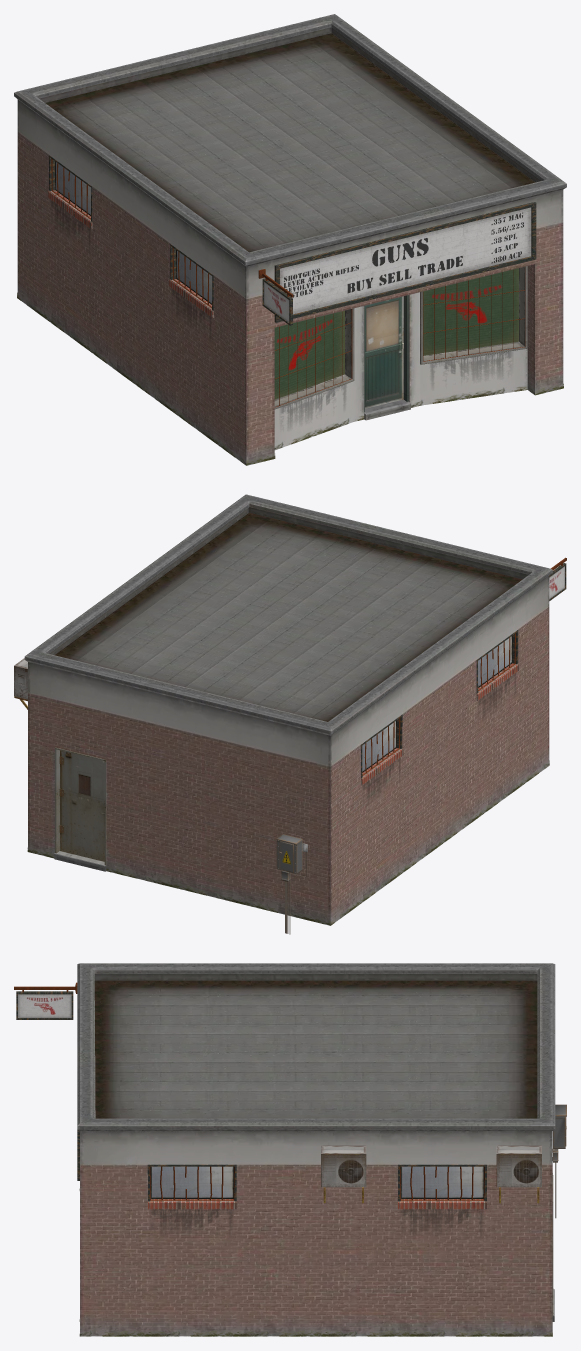
File: gun_shop_-_schneiders_gun_shop.glb
3 views of the same model, one above another, from view 1: azimuth 30°, elevation 25°; view 2: azimuth 150°, elevation 25°; view 3: azimuth 270°, elevation 25° (orthographic). The views are drawn at different scales.
Parts seen in each view (by area): view 1: gunStoreWall_gunStore_0, narrowWindow_windows_0, gunStoresign_gunStoresign_0, metalDoor_metalDoor_0, windowBars_rusty_0, decalMoss_mossy_0, decalLeaking_leakingMoss_0; view 2: gunStoreWall_gunStore_0, industrialDoor_industrialDoor_0, narrowWindow_windows_0, decalMoss_mossy_0, eletricBox-Low_eletricBox_0, windowBars_rusty_0, decalLeaking_leakingMoss_0, airconditioning.Low_air conditioning_0; view 3: gunStoreWall_gunStore_0, narrowWindow_windows_0, airconditioning.Low_air conditioning_0, decalMoss_mossy_0, gunStoresign_gunStoresign_0, decalLeaking_leakingMoss_0, windowBars_rusty_0, eletricBox-Low_eletricBox_0.
Boxes of the visible parts, x1,y1,x2,y2 form: gunStoreWall_gunStore_0: [14, 14, 566, 464]; narrowWindow_windows_0: [48, 155, 527, 409]; gunStoresign_gunStoresign_0: [262, 202, 536, 325]; metalDoor_metalDoor_0: [364, 295, 408, 412]; windowBars_rusty_0: [51, 159, 525, 407]; decalMoss_mossy_0: [17, 292, 563, 465]; decalLeaking_leakingMoss_0: [51, 201, 511, 424]; gunStoreWall_gunStore_0: [24, 494, 552, 924]; industrialDoor_industrialDoor_0: [55, 747, 106, 865]; narrowWindow_windows_0: [361, 630, 518, 785]; decalMoss_mossy_0: [27, 760, 549, 925]; eletricBox-Low_eletricBox_0: [276, 834, 307, 934]; windowBars_rusty_0: [362, 557, 566, 775]; decalLeaking_leakingMoss_0: [363, 673, 515, 798]; airconditioning.Low_air conditioning_0: [14, 658, 27, 709]; gunStoreWall_gunStore_0: [77, 963, 555, 1336]; narrowWindow_windows_0: [147, 1164, 486, 1209]; airconditioning.Low_air conditioning_0: [321, 1145, 541, 1203]; decalMoss_mossy_0: [79, 1173, 552, 1336]; gunStoresign_gunStoresign_0: [16, 991, 79, 1180]; decalLeaking_leakingMoss_0: [152, 1209, 482, 1230]; windowBars_rusty_0: [14, 982, 484, 1200]; eletricBox-Low_eletricBox_0: [552, 1104, 566, 1218].
Bounding box in the file's own units: 6 × 3.79 × 8.19.
Materials: 10 (10 with a texture image).
